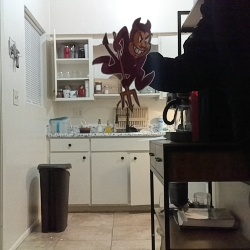sparky: (90, 15, 155, 113)
